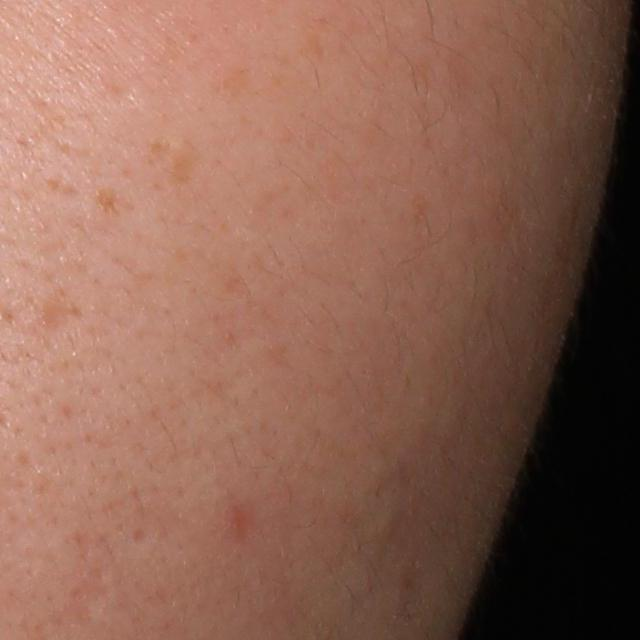atrophic_scar: (39, 296, 72, 336)
melasma: (138, 133, 203, 190), (199, 60, 262, 103)
